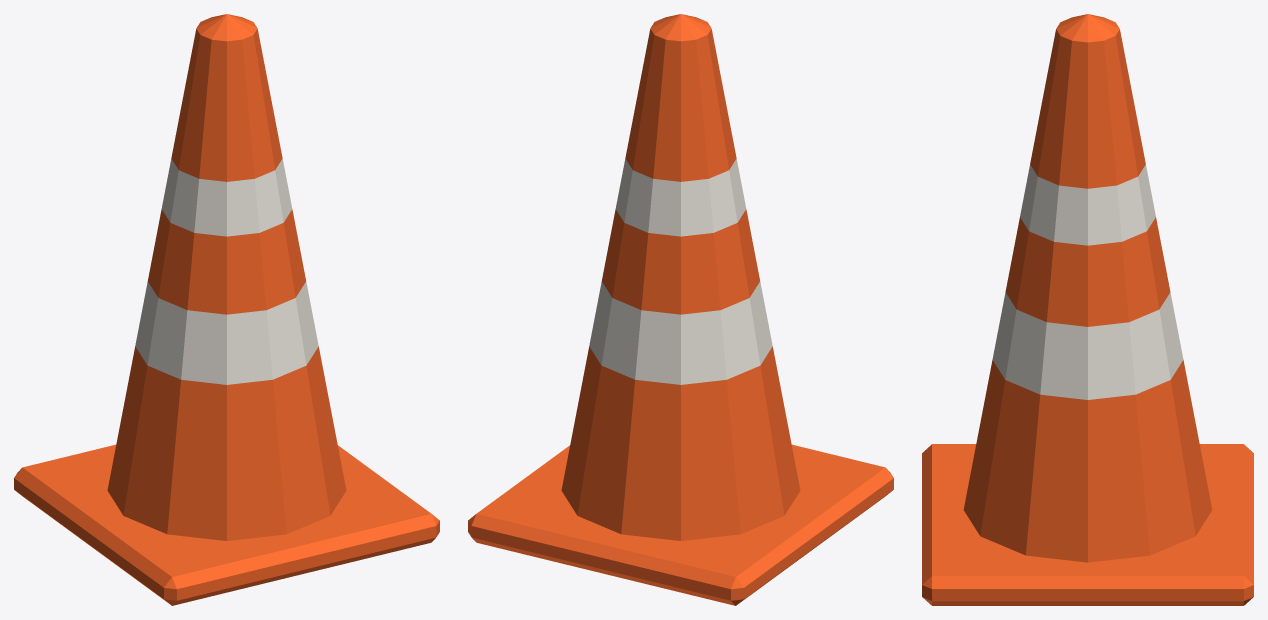
The picture shows the model from 3 angles, left to right: view 1: azimuth 30°, elevation 25°; view 2: azimuth 150°, elevation 25°; view 3: azimuth 270°, elevation 25°; orthographic projection. The views are drawn at different scales.
Parts seen in each view (by area): view 1: cone; view 2: cone; view 3: cone.
Part boxes in pixels (left/top/right/bottom): cone: left=14, top=14, right=439, bottom=605; cone: left=468, top=14, right=893, bottom=605; cone: left=922, top=14, right=1253, bottom=605.
Bounding box in the file's own units: 0.4 × 0.7 × 0.4.
